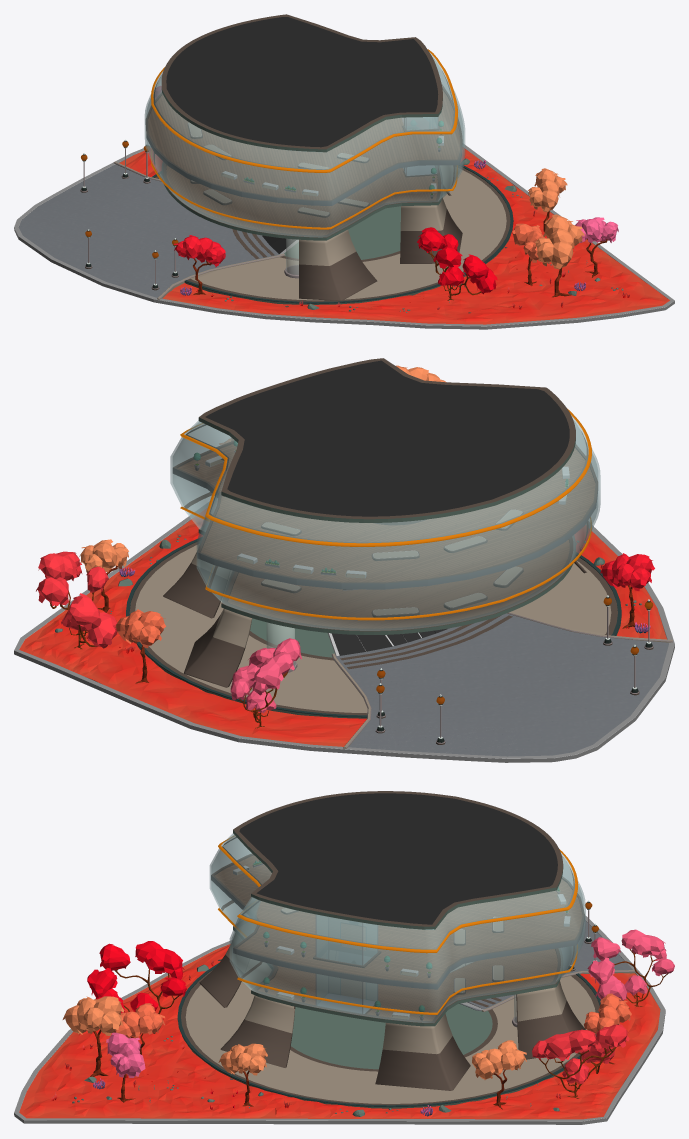
Rendered from shell.glb.
3 views of the same model, one above another, from view 1: azimuth 30°, elevation 25°; view 2: azimuth 150°, elevation 25°; view 3: azimuth 270°, elevation 25° (orthographic). The views are drawn at different scales.
Visible parts, largest first — view 1: TheShell_Building.001, TheShell_Isle, TheShell_Floor.002, TheShell_Building.0011, Torus.006, TheShell_Building, TheShell_Trees, TheShell_Isle.001, TheShell_Lapms, TheShell_Building.008, TheShell_Details, TheShell_Floor (+1 smaller); view 2: TheShell_Building.001, TheShell_Floor.002, TheShell_Building.0011, TheShell_Building, Torus.006, TheShell_Isle, TheShell_Trees, TheShell_Isle.001, TheShell_Building.003, TheShell_Lapms, TheShell_Floor; view 3: TheShell_Building.001, TheShell_Isle, Torus.006, TheShell_Building, TheShell_Trees, TheShell_Building.0011, TheShell_Isle.001, TheShell_Building.008, TheShell_Floor.002, TheShell_Details.
Part boxes in pixels (x1,y1,x2,y2): TheShell_Building.001: (144,14,465,240); TheShell_Isle: (119,148,669,324); TheShell_Floor.002: (19,164,279,297); TheShell_Building.0011: (145,84,462,205); Torus.006: (151,164,513,304); TheShell_Building: (166,165,462,300); TheShell_Trees: (155,86,618,300); TheShell_Isle.001: (14,144,674,329); TheShell_Lapms: (80,139,178,290); TheShell_Building.008: (402,117,438,175); TheShell_Details: (180,160,629,312); TheShell_Floor: (113,161,285,299); TheShell_Building.001: (170,358,600,634); TheShell_Floor.002: (336,613,668,756); TheShell_Building.0011: (172,441,598,589); TheShell_Building: (163,536,586,687); Torus.006: (126,537,621,718); TheShell_Isle: (19,509,666,746); TheShell_Trees: (36,365,654,728); TheShell_Isle.001: (14,502,674,762); TheShell_Building.003: (327,628,447,655); TheShell_Lapms: (375,595,653,744); TheShell_Floor: (331,612,672,748); TheShell_Building.001: (209,791,585,1026); TheShell_Isle: (19,944,660,1119); Torus.006: (177,959,600,1108); TheShell_Building: (199,925,585,1090); TheShell_Trees: (62,929,674,1109); TheShell_Building.0011: (211,853,584,989); TheShell_Isle.001: (14,915,665,1124); TheShell_Building.008: (315,914,378,1014); TheShell_Floor.002: (455,920,632,1010); TheShell_Details: (51,960,560,1116).
Size of what is drawn, in the model's own units: 78.92 by 25.7 by 96.38.
9 materials, 9 textured.
